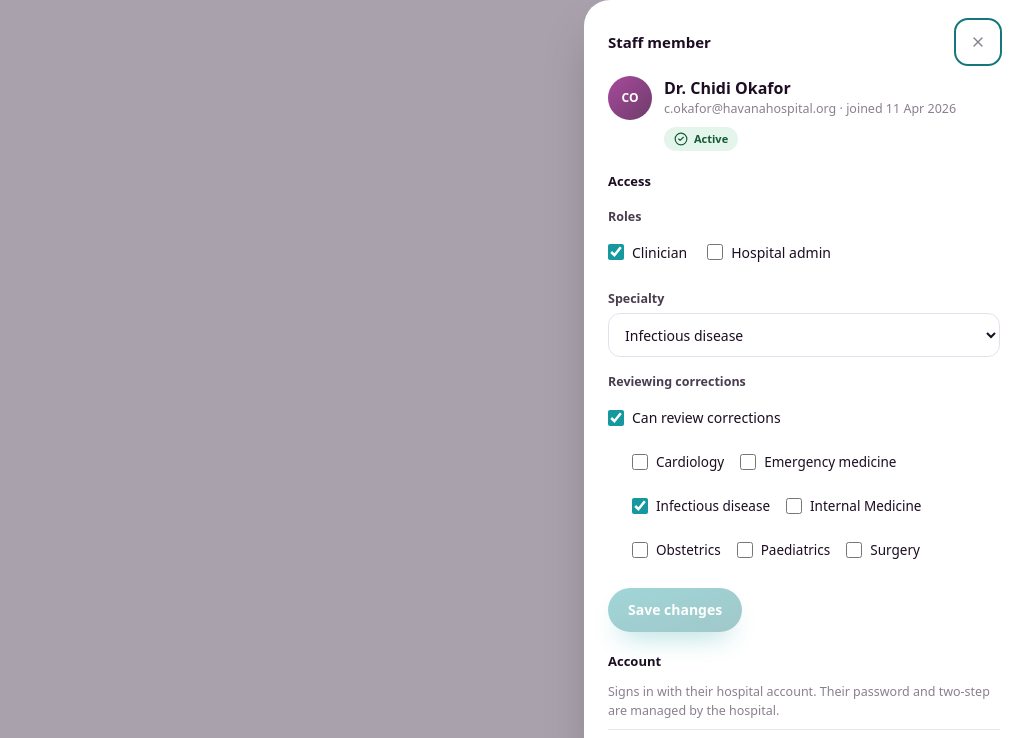
Test: StaffPanel › needs at least one role, and review rights need a specialty
Click the checkbox labelled "Clinician" at (616, 252), box [608, 244, 624, 260]
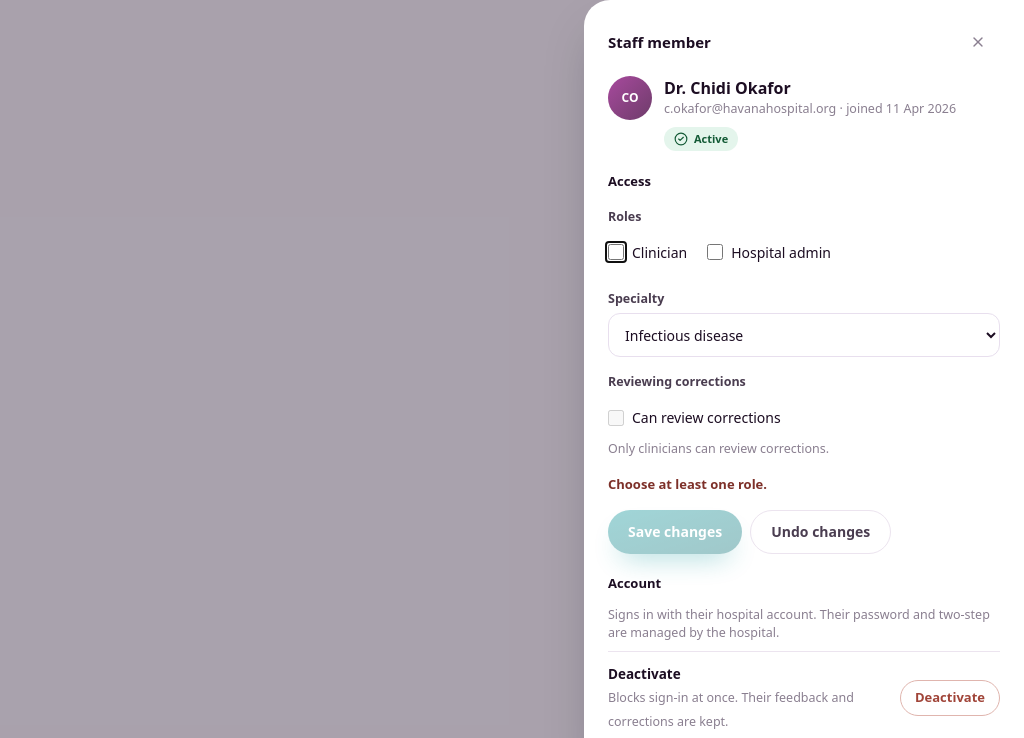
Check: the button "Save changes" is disabled, box [608, 510, 742, 554]
Check: the text "Choose at least one role." is shown, box [608, 474, 767, 492]
Click the checkbox labelled "Clinician" at (616, 252), box [608, 244, 624, 260]
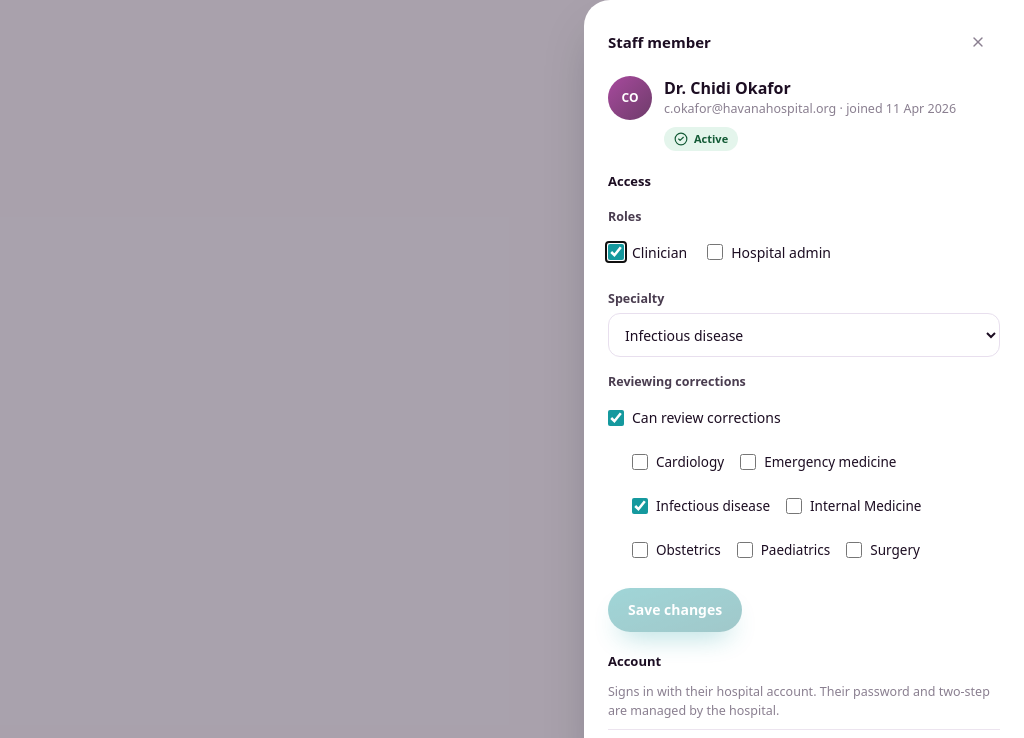
Click the checkbox labelled "Infectious disease" at (640, 506), box [632, 498, 648, 514]
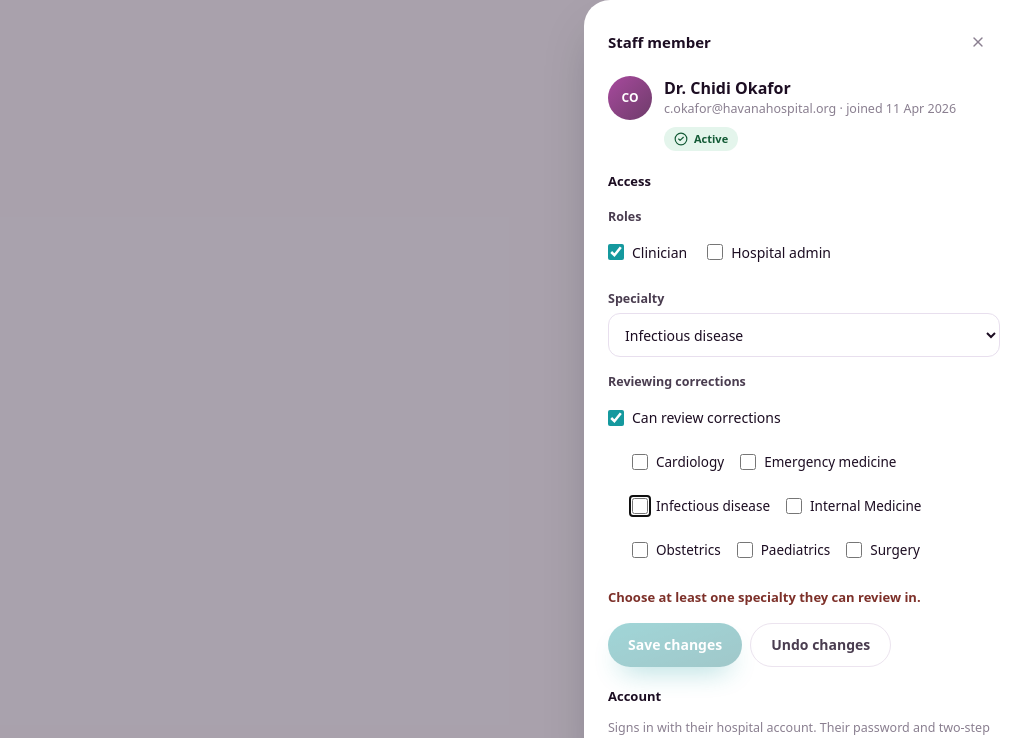
Check: the text "Choose at least one specialty they can review in." is shown, box [608, 588, 921, 606]
